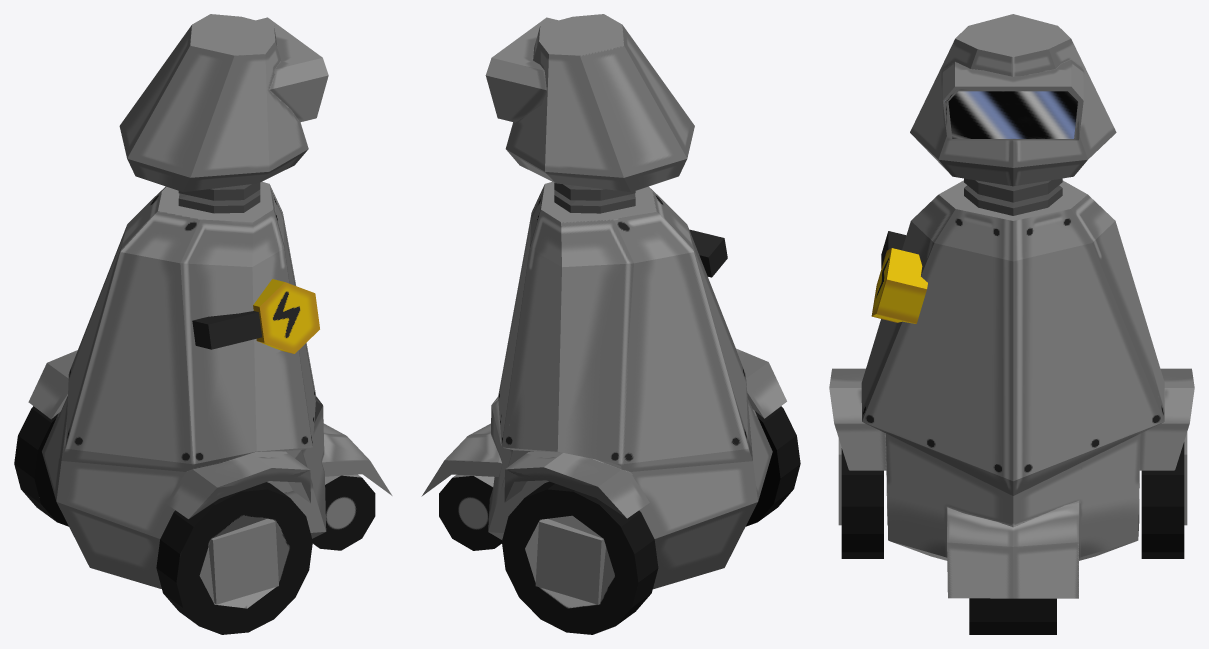
The model's file is animatedrobotCorrect.fbx.
3 renders of one model, left to right at view 1: azimuth 30°, elevation 25°; view 2: azimuth 150°, elevation 25°; view 3: azimuth 270°, elevation 25°, orthographic. The views are drawn at different scales.
Visible parts, largest first — view 1: robot, head, wheels; view 2: robot, head, wheels; view 3: robot, head, wheels.
Boxes of the visible parts, x1,y1,x2,y2 form: robot: (28, 181, 392, 588); head: (119, 14, 328, 213); wheels: (14, 406, 312, 634); robot: (421, 181, 786, 589); head: (485, 14, 694, 213); wheels: (502, 406, 800, 634); robot: (829, 180, 1194, 634); head: (910, 14, 1116, 215); wheels: (838, 432, 1187, 558).
Size of the model in its own units: 229 by 373 by 224.
